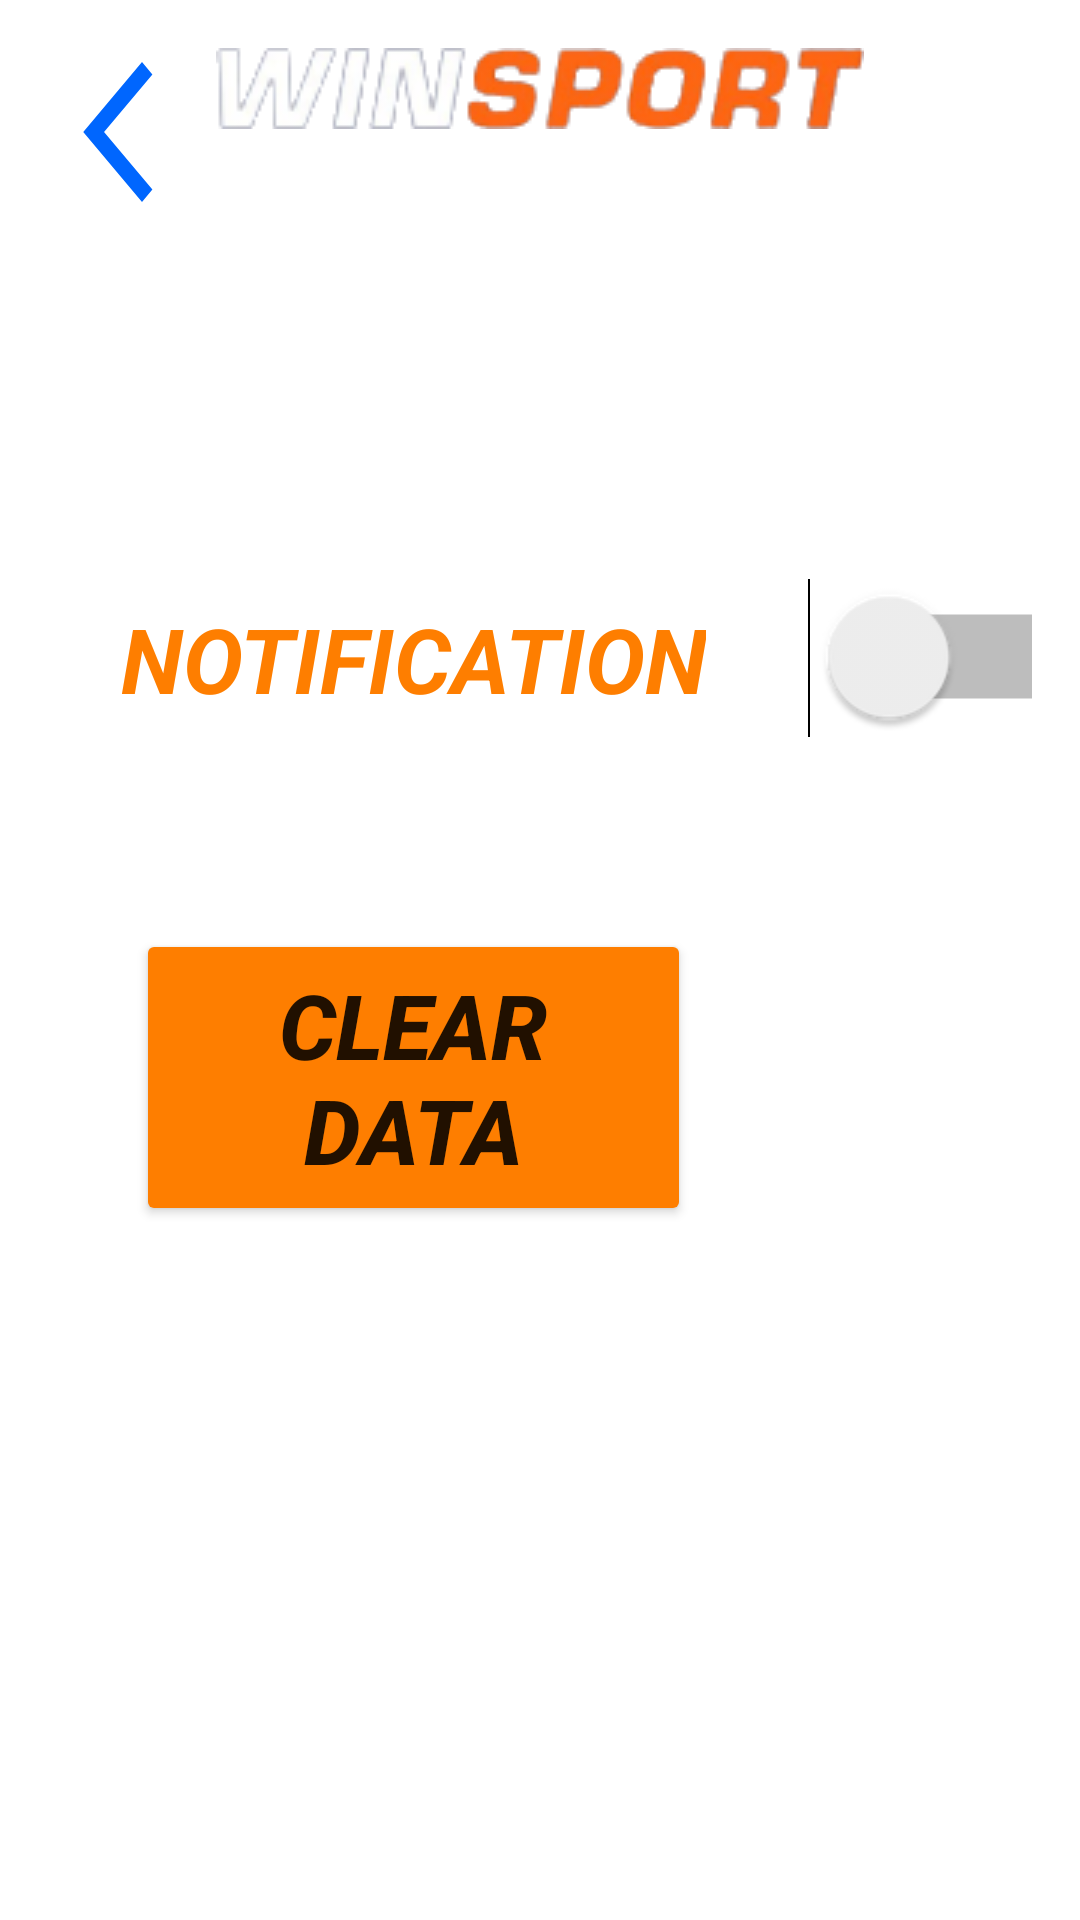

Screen size 1080 x 1920. Icon name, then its box in pixels as bbox=(x1, y1, x2, y2):
arrow back: bbox=(83, 62, 153, 202)
